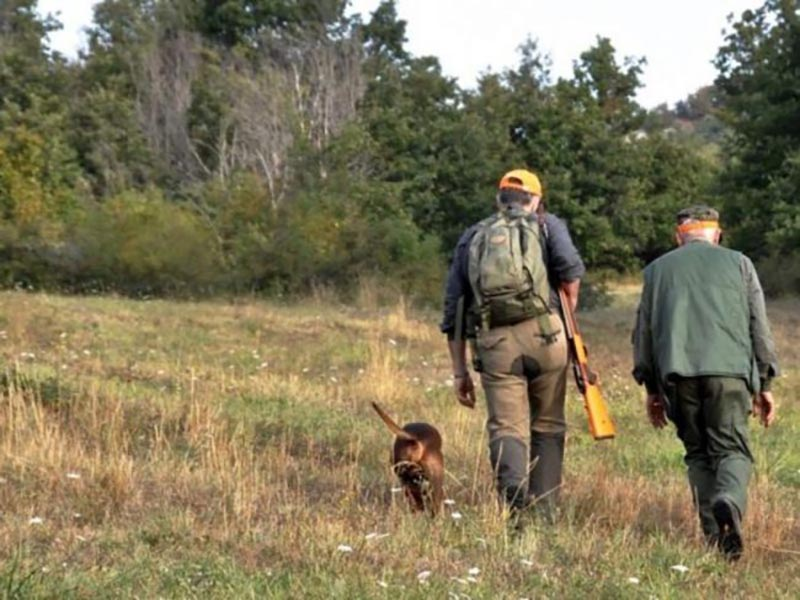cacciatore: (445, 161, 613, 533), (641, 202, 776, 566)
cane da caccia: (370, 396, 448, 530)
